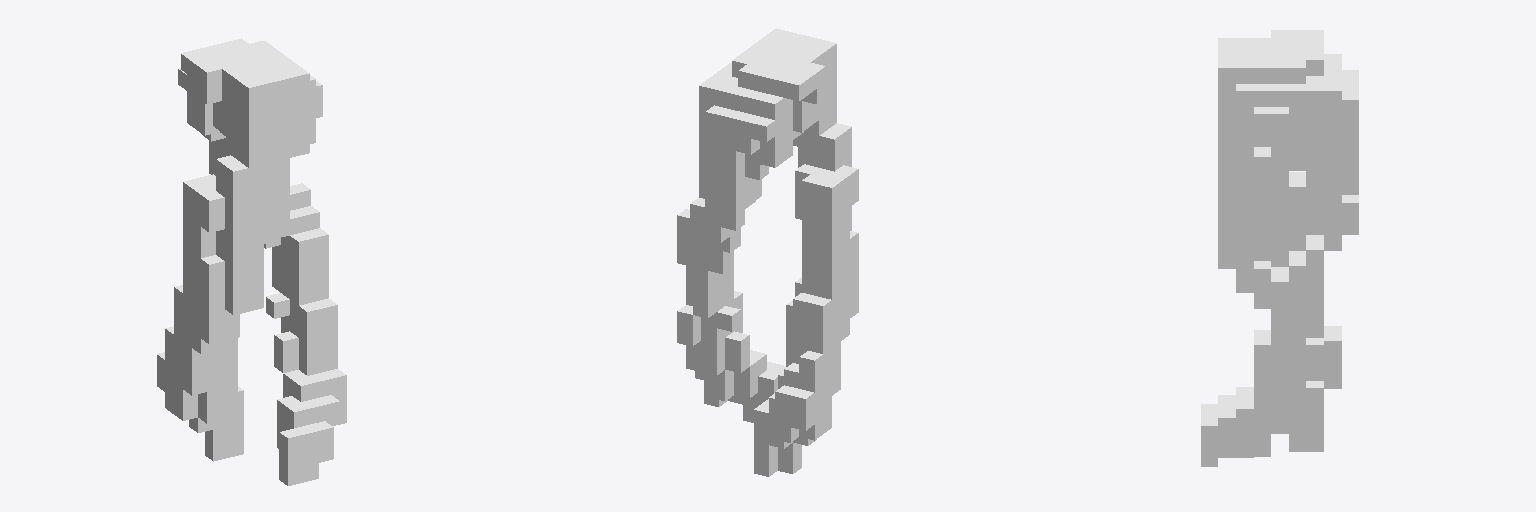
Rendered from mob1-1.obj.
3 views of the same model, side by side, from view 1: azimuth 30°, elevation 25°; view 2: azimuth 150°, elevation 25°; view 3: azimuth 270°, elevation 25° (orthographic).
Parts seen in each view (by area): view 1: object 1; view 2: object 1; view 3: object 1.
Boxes of the visible parts, box(x1,y1,x2,y2) form: object 1: box(157, 38, 346, 485); object 1: box(677, 28, 858, 476); object 1: box(1201, 30, 1358, 466).
Size of the model in its own units: 0.9 by 2.5 by 0.9.